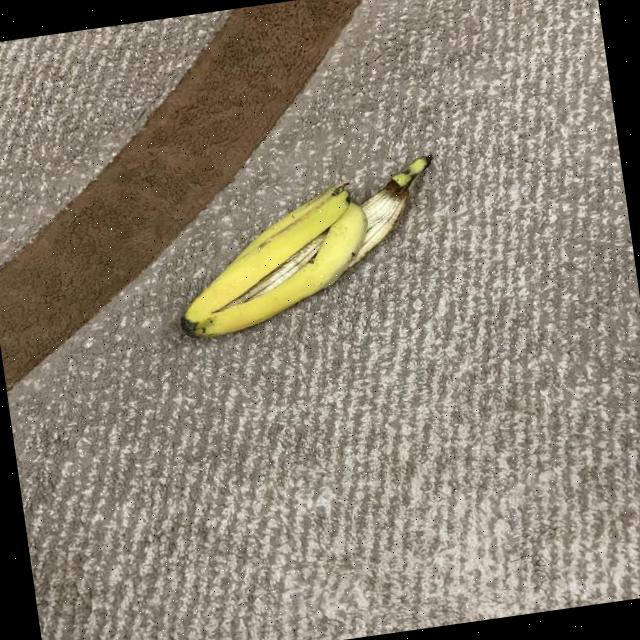banana-peel: (160, 152, 452, 342)
